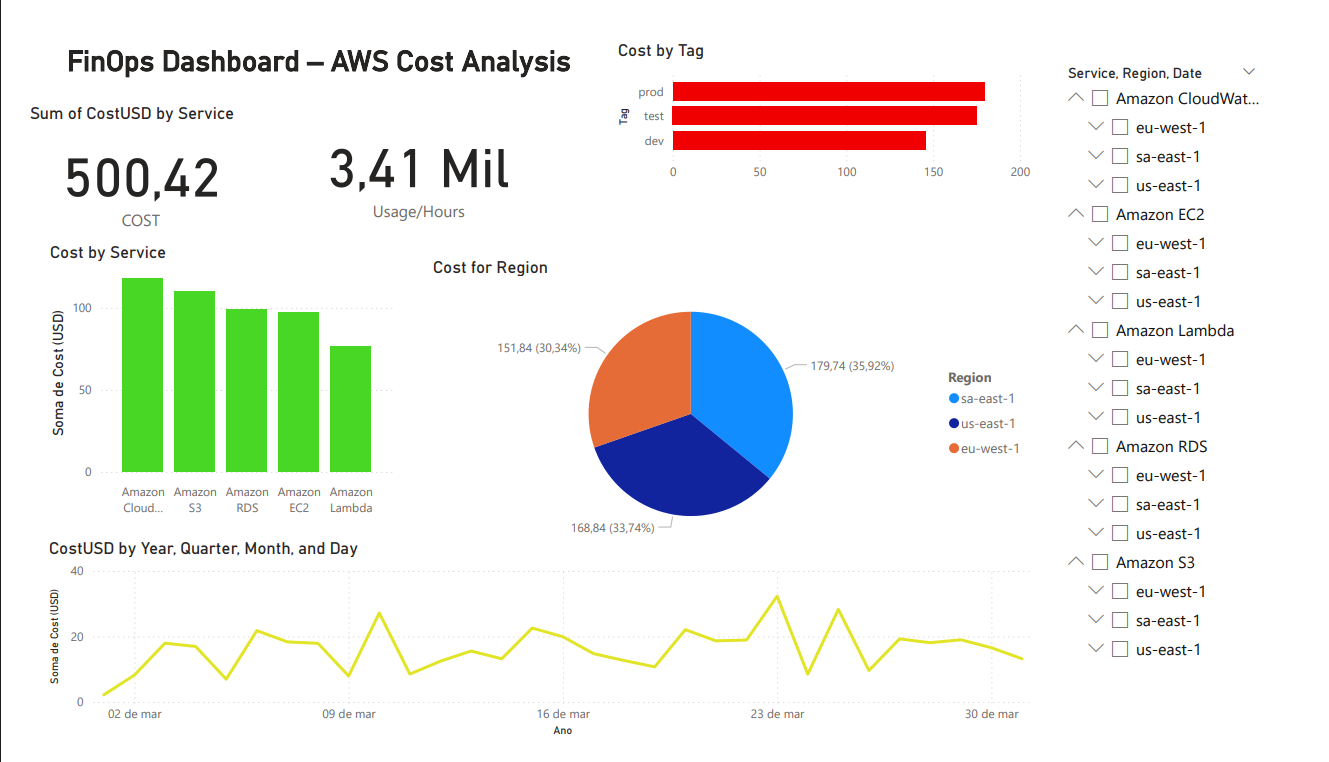

This screenshot's page, from the dashboard's own definition file:
{"tool":"powerbi","page":{"name":"Página 1","canvas":[1280,720],"ordinal":0},"visuals":[{"type":"lineChart","title":"CostUSD by Year, Quarter, Month, and Day","fields":{"Y":["Sum(Sheet1.CostUSD)"],"Category":["Sheet1.Date.Variation.Hierarquia de datas.Ano","Sheet1.Date.Variation.Hierarquia de datas.Trimestre","Sheet1.Date.Variation.Hierarquia de datas.Mês","Sheet1.Date.Variation.Hierarquia de datas.Dia"]},"box":[19.2,515.6,1009.9,204.5],"z":0},{"type":"columnChart","title":"Cost by Service","fields":{"Category":["Sheet1.Service"],"Y":["Sum(Sheet1.Cost (USD))"]},"box":[20,220,352.5,295],"z":1000},{"type":"card","title":"Sum of CostUSD by Service","fields":{"Values":["Sum(Sheet1.CostUSD)"]},"box":[0,81,232.2,138.5],"z":2000},{"type":"card","fields":{"Values":["Sum(Sheet1.UsageHours)"]},"box":[252.5,80,282.5,140],"z":3000},{"type":"pieChart","title":"Cost for Region","fields":{"Category":["Sheet1.Region"],"Y":["Sum(Sheet1.CostUSD)"]},"box":[402.5,235,607.5,295],"z":4000},{"type":"slicer","fields":{"Values":["Sheet1.Service","Sheet1.Region","Sheet1.Date"]},"box":[1030,37.5,212.5,660],"z":5000},{"type":"textbox","box":[0,0,587.5,80],"z":6000},{"type":"barChart","title":" Cost by Tag","fields":{"Category":["Sheet1.Tag"],"Y":["Sum(Sheet1.CostUSD)"]},"box":[587.5,17.5,422.5,150],"z":7000}]}

Visuals, with their boxes in screenshot pixels (x1, y1, x2, y2), scaled from the page's 1280x720 canvas onto the 1329x762 screenshot:
"CostUSD by Year, Quarter, Month, and Day" lineChart: 20:546:1068:761
"Cost by Service" columnChart: 21:233:387:545
"Sum of CostUSD by Service" card: 0:86:241:232
card - Sum(Sheet1.UsageHours): 262:85:555:233
"Cost for Region" pieChart: 418:249:1049:561
slicer - Sheet1.Service x Sheet1.Region: 1069:40:1290:738
textbox: 0:0:610:85
" Cost by Tag" barChart: 610:19:1049:177
